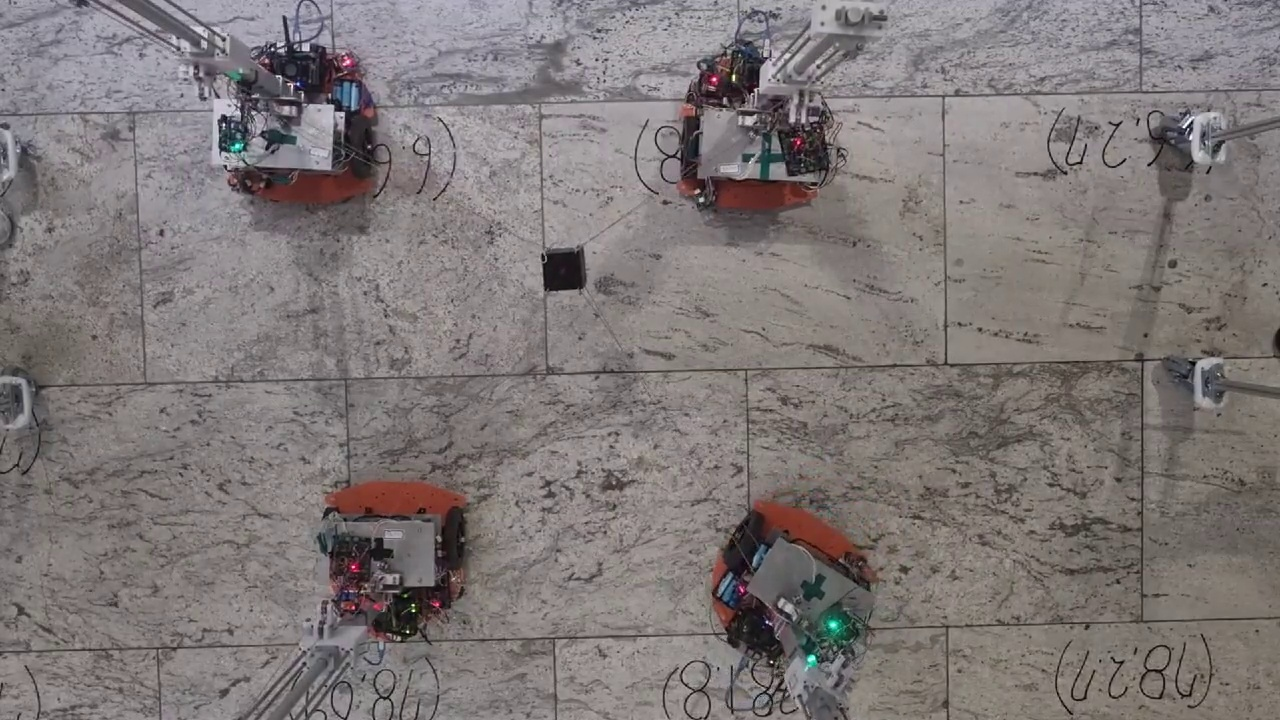e0: (542, 245, 587, 292)
r1: (722, 509, 872, 636)
r2: (678, 116, 825, 186)
r3: (218, 107, 375, 181)
r4: (318, 505, 467, 572)
y_+_axis_vector: (548, 366, 947, 374)
y_-_axis_vector: (145, 374, 548, 384)
